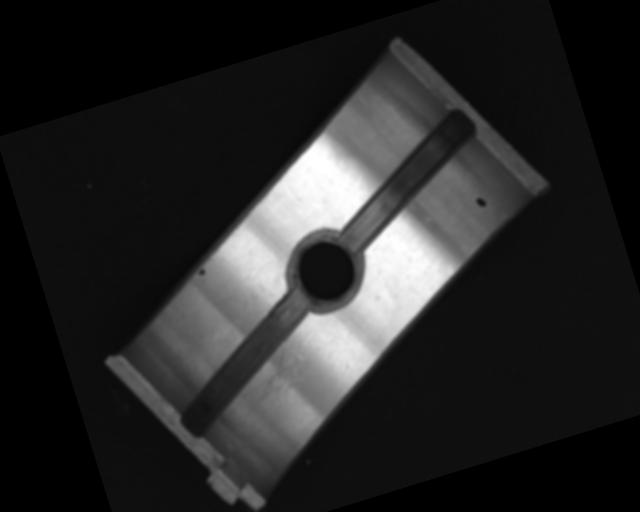blot: (474, 193, 489, 210), (195, 266, 207, 278)
gap: (153, 284, 335, 440), (318, 108, 494, 253)
hole: (281, 223, 370, 316)
scratch: (224, 336, 313, 420)
